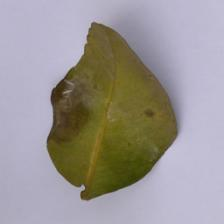black spot: (40, 59, 112, 154)
